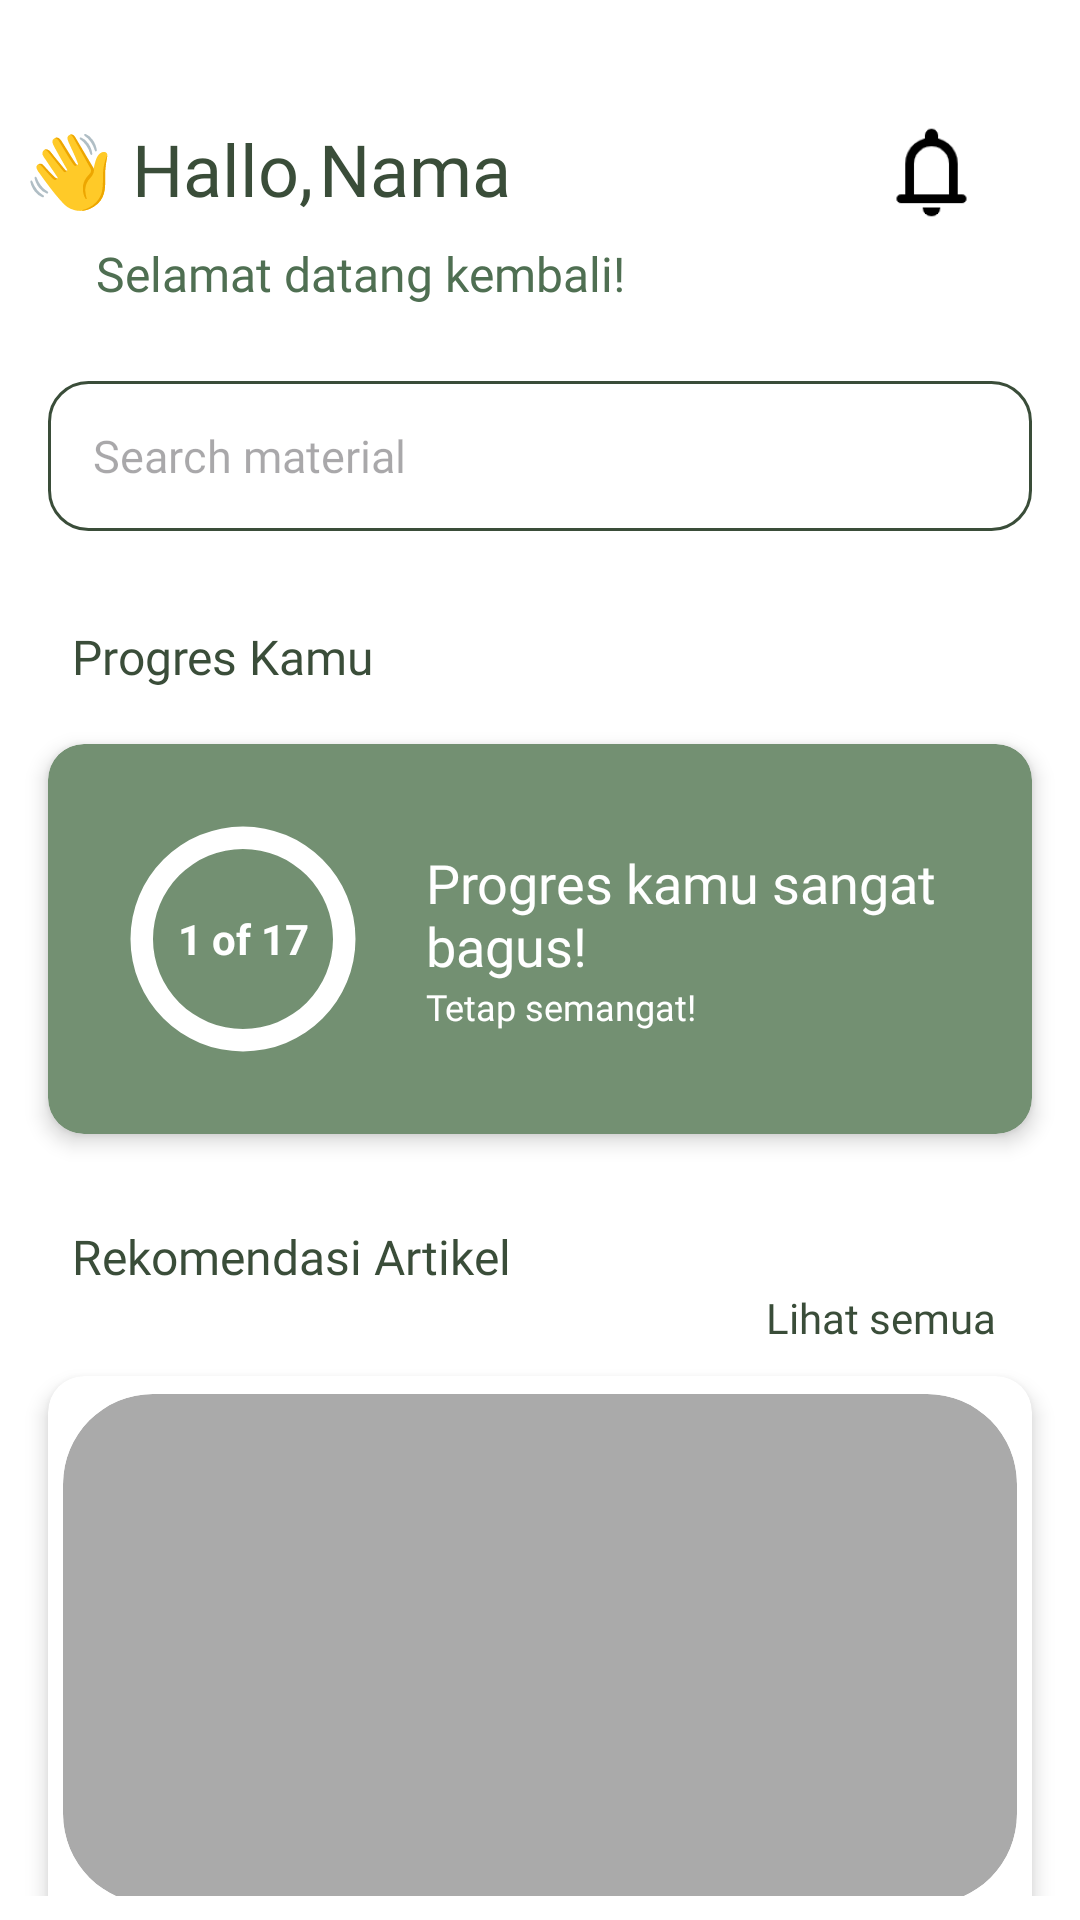

Point at icon controls on the screen. Image size 1080 × 1920, points as point (x, y).
notification: point (931, 172)
